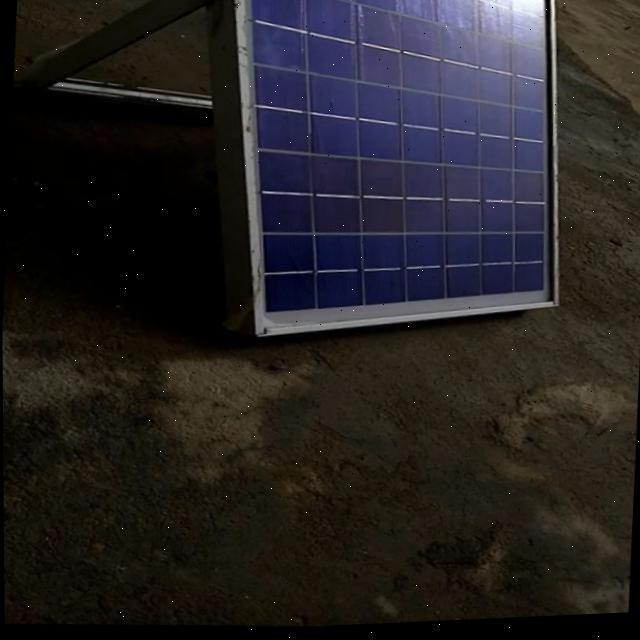Normal Solar Panel: (190, 0, 572, 355)
